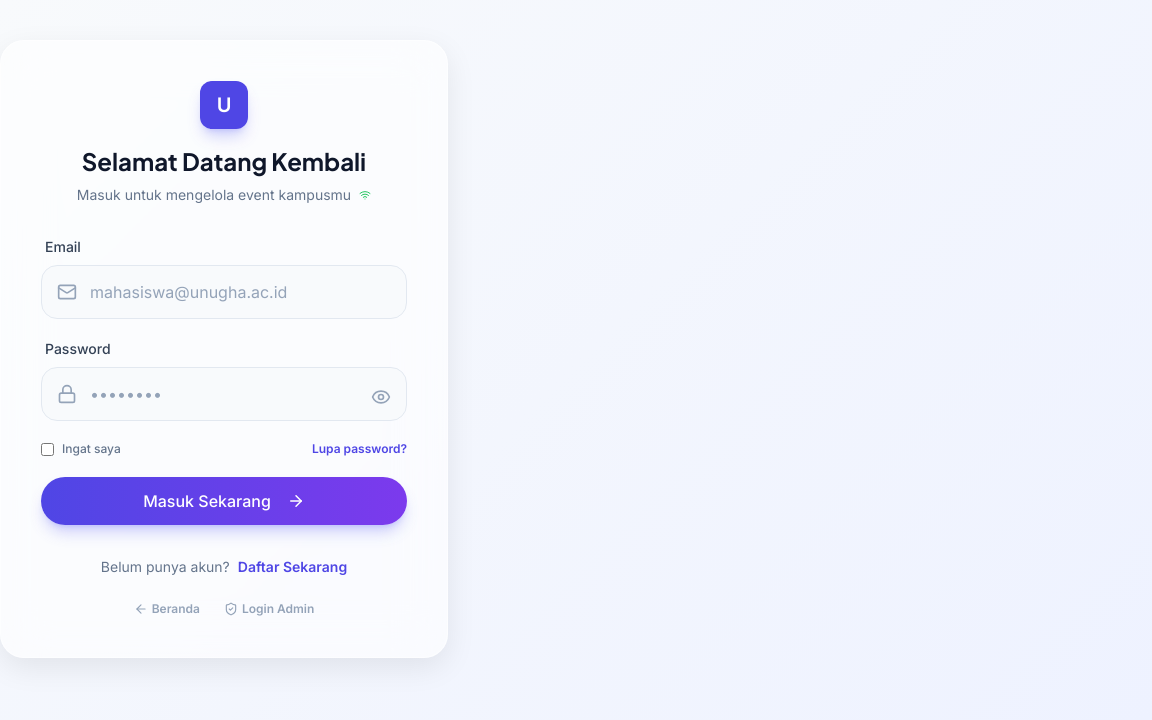
Test: Login Page › displays error message on login failure
Type "wrong@test.com" into the field labelled "Email".
click(224, 292); type("wrong@test.com")  # box x1=41 y1=265 x2=407 y2=319
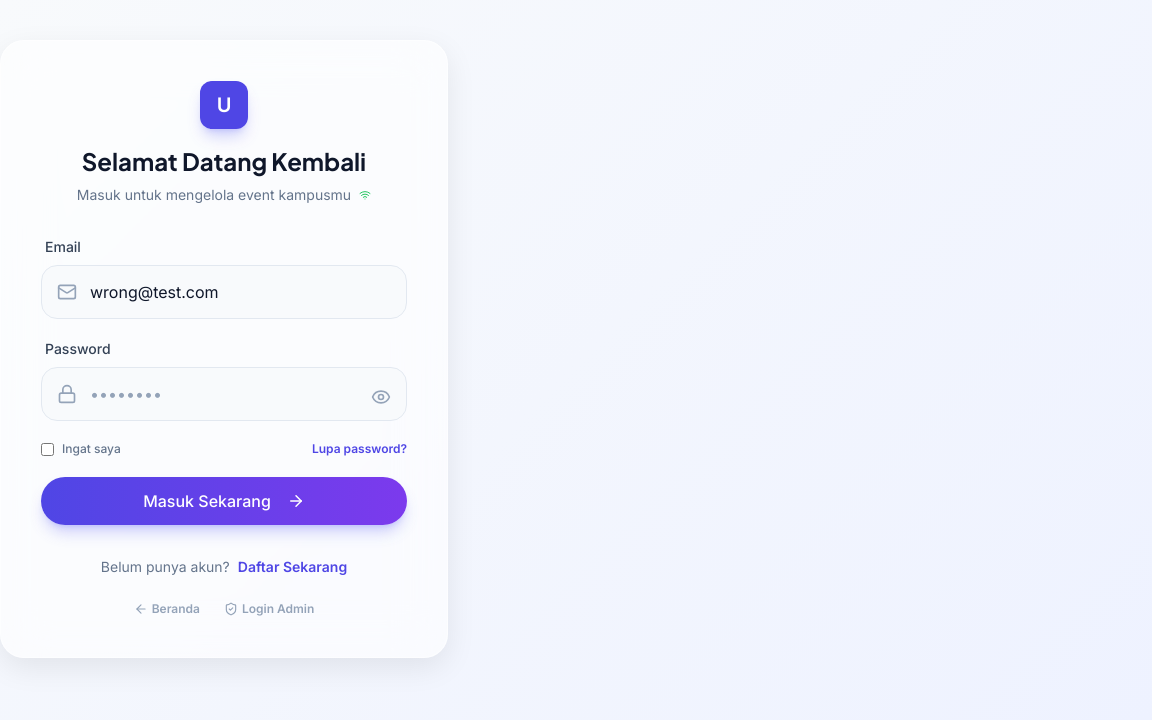
Type "wrong" into the password field labelled "Password".
click(224, 394); type("wrong")  # box x1=41 y1=367 x2=407 y2=421
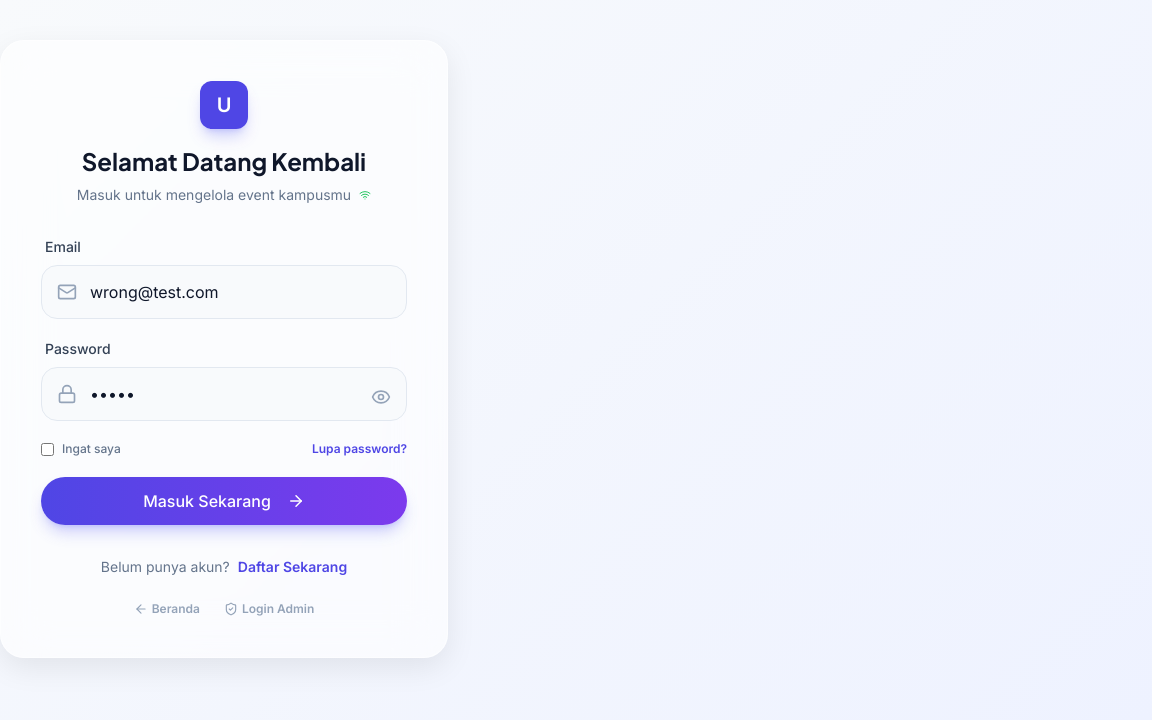
Click the button "Masuk Sekarang".
click(224, 501)  # box x1=41 y1=477 x2=407 y2=525
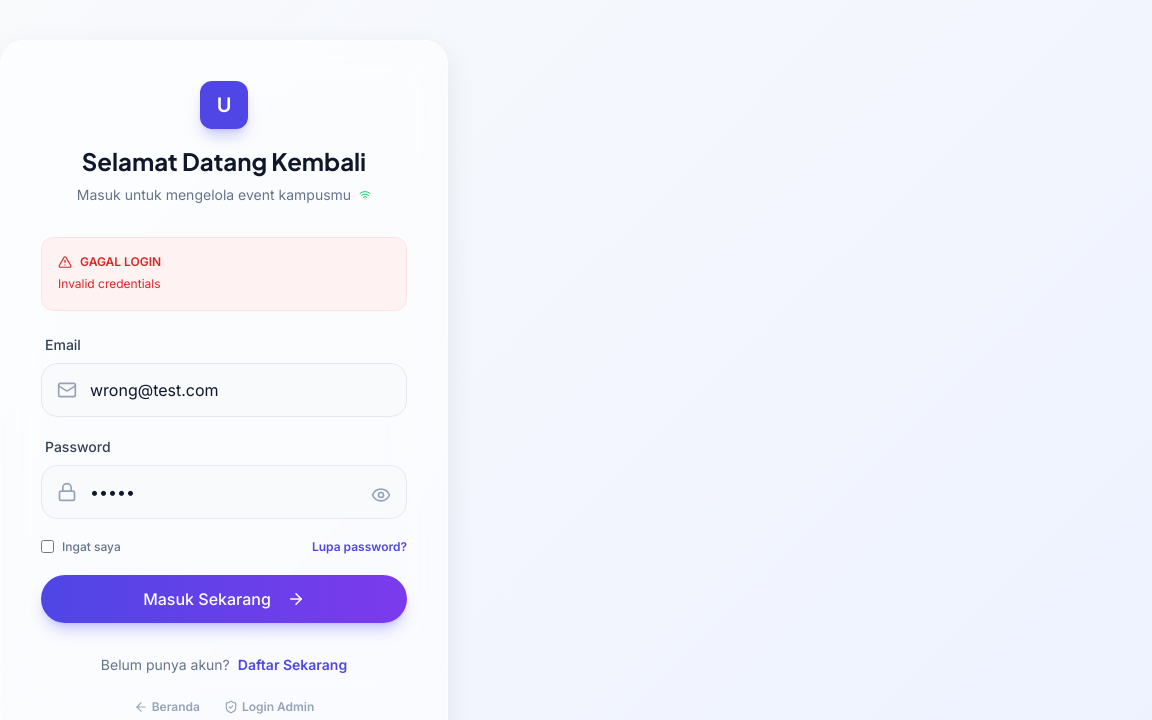
Expected: the text "GAGAL LOGIN" is shown, x1=58 y1=254 x2=161 y2=269
Expected: the text "Invalid credentials" is shown, x1=58 y1=276 x2=160 y2=291
